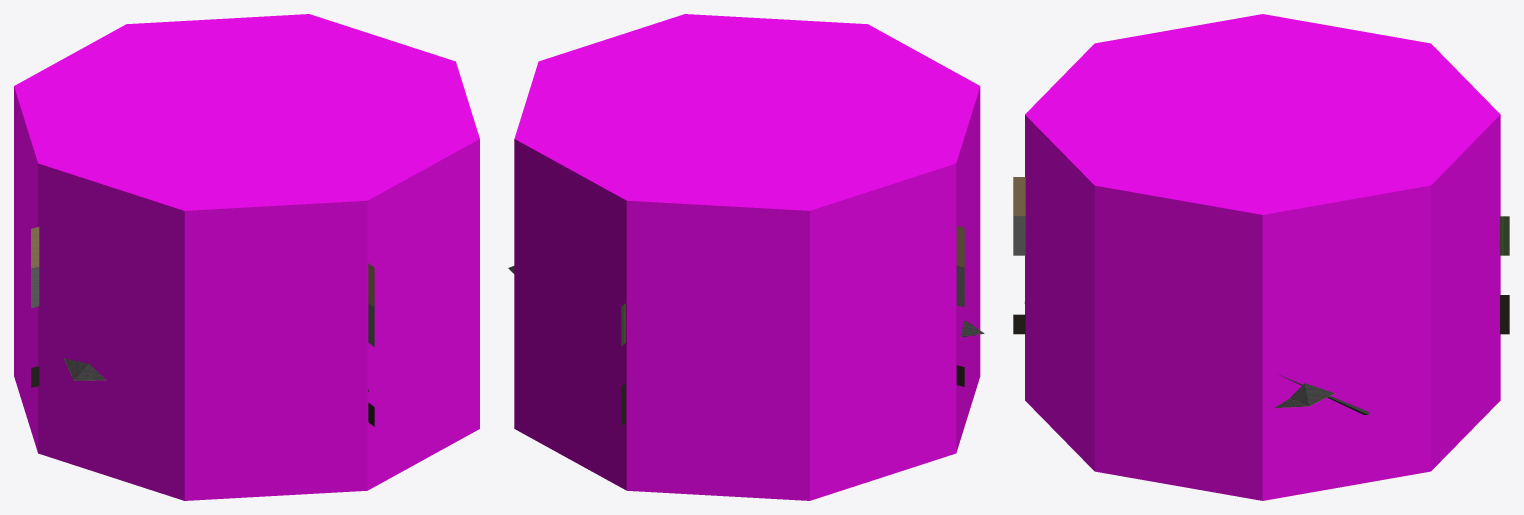
Rendered from rock_large_dark_a.dae.
The picture shows the model from 3 angles, left to right: view 1: azimuth 30°, elevation 25°; view 2: azimuth 150°, elevation 25°; view 3: azimuth 270°, elevation 25°; orthographic projection.
Visible parts, largest first — view 1: Colmesh_rock-1, rock_large_dark_a_a50, rock_large_dark_a_a200; view 2: Colmesh_rock-1, rock_large_dark_a_a50; view 3: Colmesh_rock-1, rock_large_dark_a_a50, rock_large_dark_a_a200.
Part boxes in pixels (x1,y1,x2,y2): Colmesh_rock-1: [14, 14, 479, 500]; rock_large_dark_a_a50: [31, 227, 374, 426]; rock_large_dark_a_a200: [64, 358, 106, 380]; Colmesh_rock-1: [514, 14, 980, 500]; rock_large_dark_a_a50: [621, 226, 964, 425]; Colmesh_rock-1: [1025, 14, 1500, 500]; rock_large_dark_a_a50: [1013, 177, 1509, 334]; rock_large_dark_a_a200: [1274, 383, 1334, 408].
Bounding box in the file's own units: 3.29 × 3.29 × 2.09.
2 materials, 1 textured.
